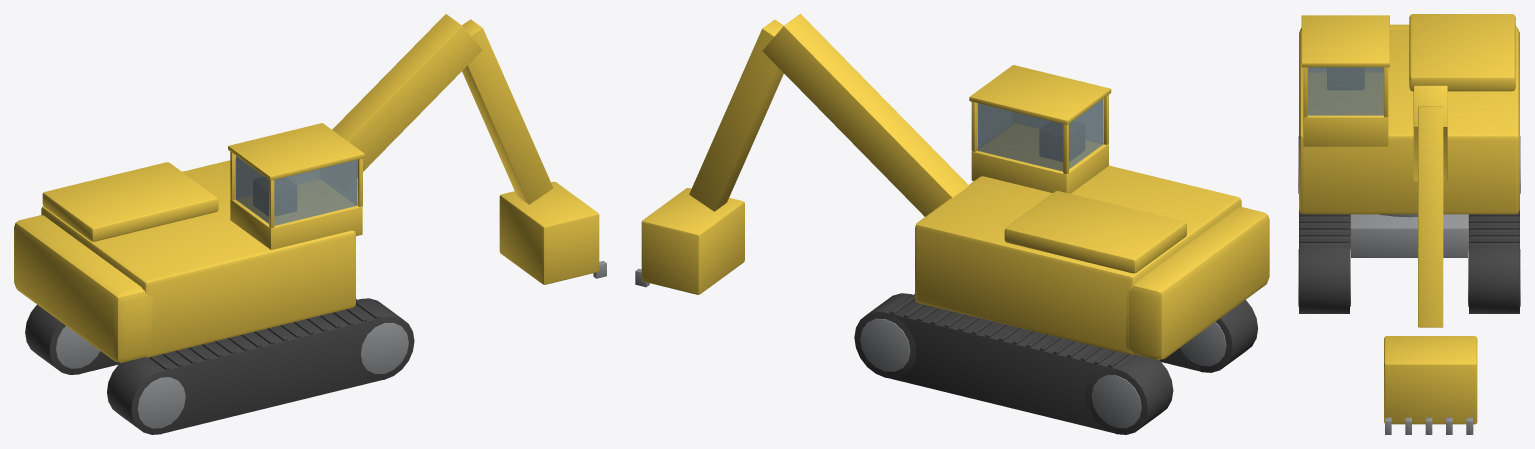
File: EQP-TER-002_anim.glb
3 renders of one model, left to right at view 1: azimuth 30°, elevation 25°; view 2: azimuth 150°, elevation 25°; view 3: azimuth 270°, elevation 25°, orthographic. The views are drawn at different scales.
Visible parts, largest first — view 1: EQP-TER-002_anim4, EQP-TER-002_anim0, EQP-TER-002_anim1, EQP-TER-002_anim3, EQP-TER-002_anim2; view 2: EQP-TER-002_anim4, EQP-TER-002_anim0, EQP-TER-002_anim1, EQP-TER-002_anim3, EQP-TER-002_anim2; view 3: EQP-TER-002_anim4, EQP-TER-002_anim0, EQP-TER-002_anim3, EQP-TER-002_anim2, EQP-TER-002_anim1.
Part boxes in pixels (x1=…): EQP-TER-002_anim4: x1=14, y1=123, x2=364, y2=362; EQP-TER-002_anim0: x1=25, y1=298, x2=414, y2=434; EQP-TER-002_anim1: x1=332, y1=14, x2=482, y2=177; EQP-TER-002_anim3: x1=499, y1=181, x2=606, y2=284; EQP-TER-002_anim2: x1=462, y1=19, x2=553, y2=204; EQP-TER-002_anim4: x1=915, y1=65, x2=1269, y2=359; EQP-TER-002_anim0: x1=854, y1=293, x2=1257, y2=434; EQP-TER-002_anim1: x1=762, y1=14, x2=968, y2=216; EQP-TER-002_anim3: x1=635, y1=188, x2=744, y2=294; EQP-TER-002_anim2: x1=689, y1=19, x2=783, y2=211; EQP-TER-002_anim4: x1=1299, y1=14, x2=1519, y2=217; EQP-TER-002_anim0: x1=1298, y1=136, x2=1520, y2=313; EQP-TER-002_anim3: x1=1384, y1=336, x2=1477, y2=434; EQP-TER-002_anim2: x1=1418, y1=106, x2=1443, y2=327; EQP-TER-002_anim1: x1=1413, y1=85, x2=1447, y2=180.
Bounding box in the file's own units: 7.5 × 3.8 × 2.62.
